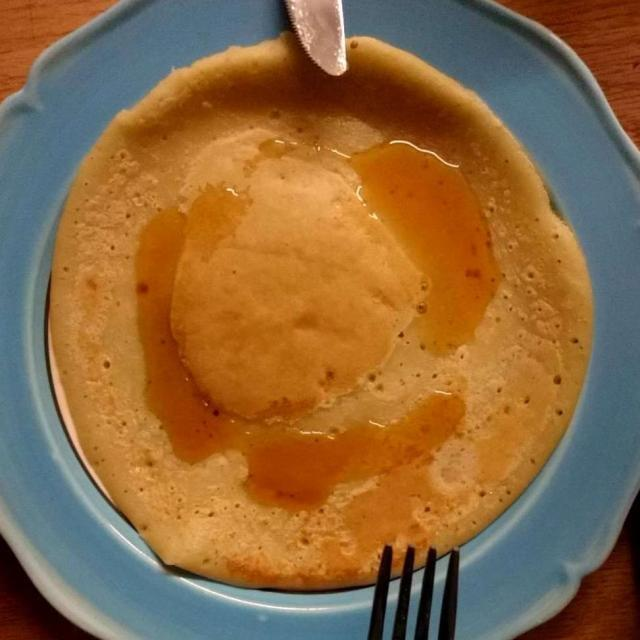crepe: (64, 44, 579, 586)
